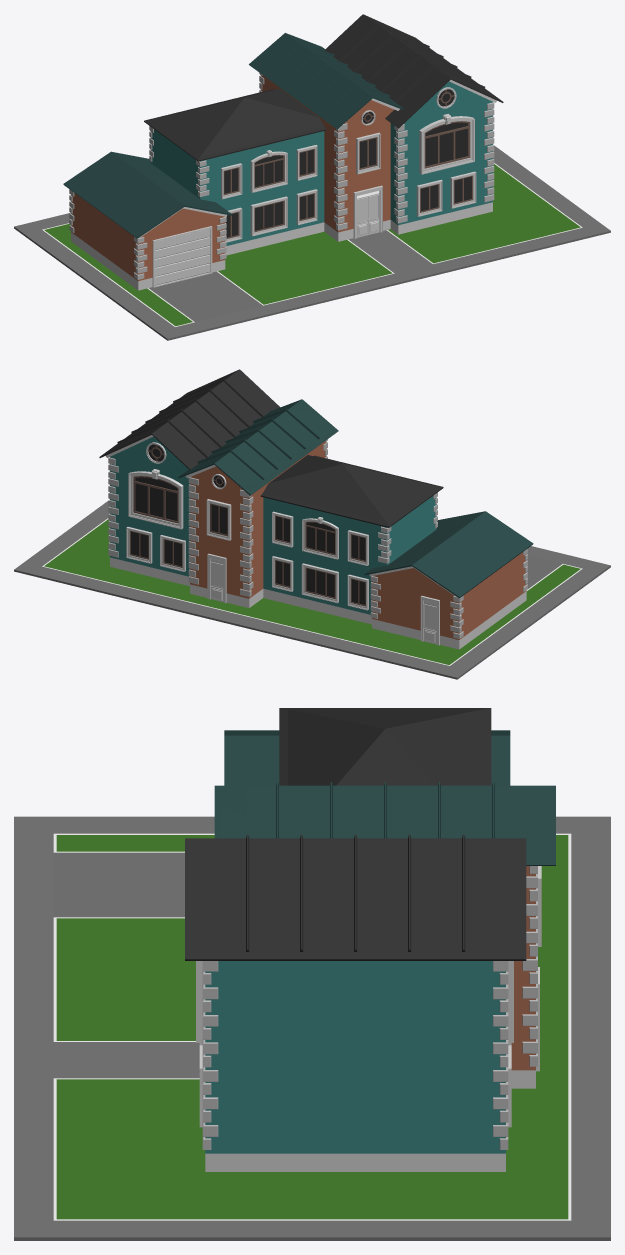
3 renders of one model, top to bottom at view 1: azimuth 30°, elevation 25°; view 2: azimuth 150°, elevation 25°; view 3: azimuth 270°, elevation 25°, orthographic. The views are drawn at different scales.
Visible parts, largest first — view 1: house_07.001; view 2: house_07.001; view 3: house_07.001.
Boxes of the visible parts, x1=… form: house_07.001: x1=14, y1=14, x2=610, y2=340; house_07.001: x1=14, y1=369, x2=610, y2=679; house_07.001: x1=14, y1=708, x2=610, y2=1240.
Size of the model in its own units: 25 by 8.21 by 15.
Materials: 1 (1 with a texture image).
